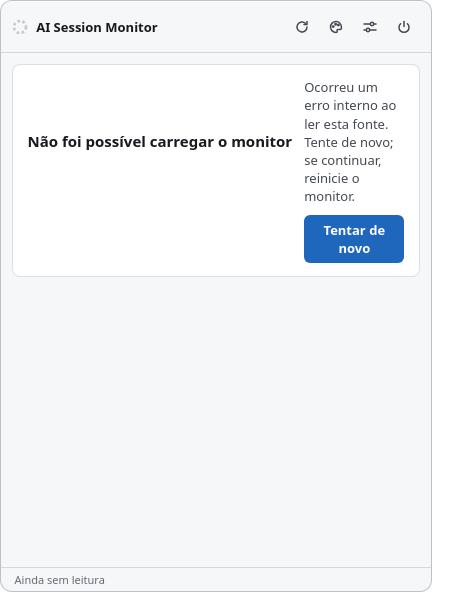
Test: when the first snapshot cannot be loaded › does not stand in the way of the settings
expect the heading "Não foi possível carregar o monitor" is shown: met, box [28,131,292,152]
Click the button named "Configurações".
click(370, 27)  # box [354,11,386,43]
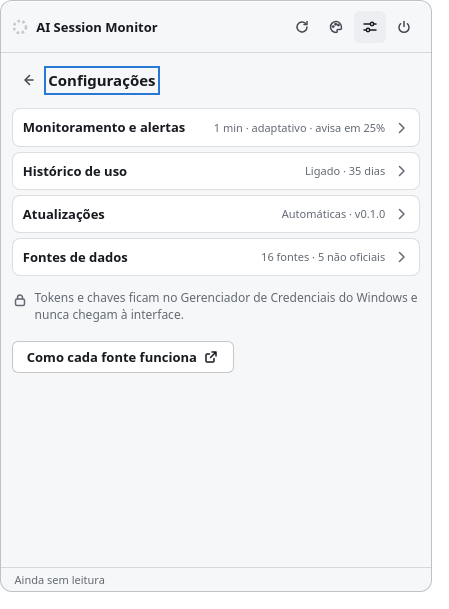
expect the element "Configurações" is shown: met
expect the heading "Não foi possível carregar o monitor" is gone: met
